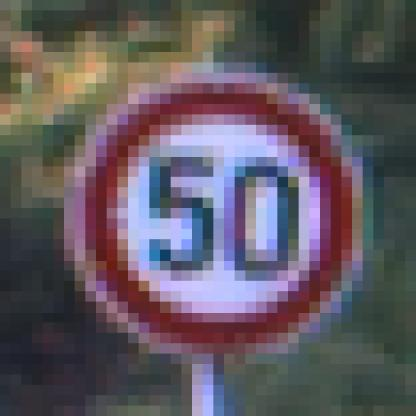Speed Limit 50: (93, 87, 354, 346)
